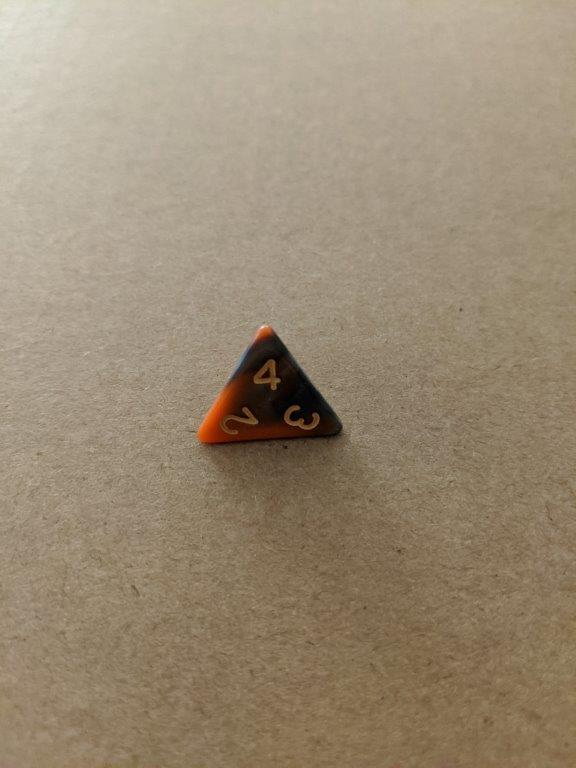d4-4: (193, 319, 346, 452)
